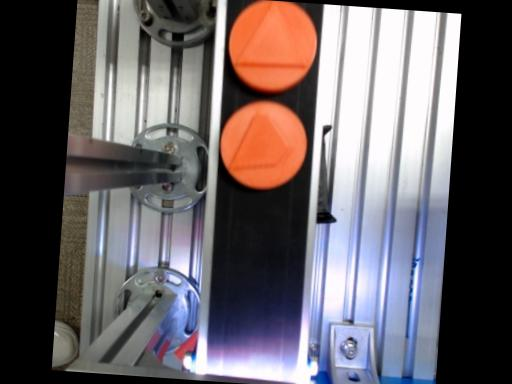Not_Square: (235, 1, 308, 65), (229, 115, 290, 169)
Orange_Waper: (230, 0, 316, 92), (221, 101, 306, 188)
